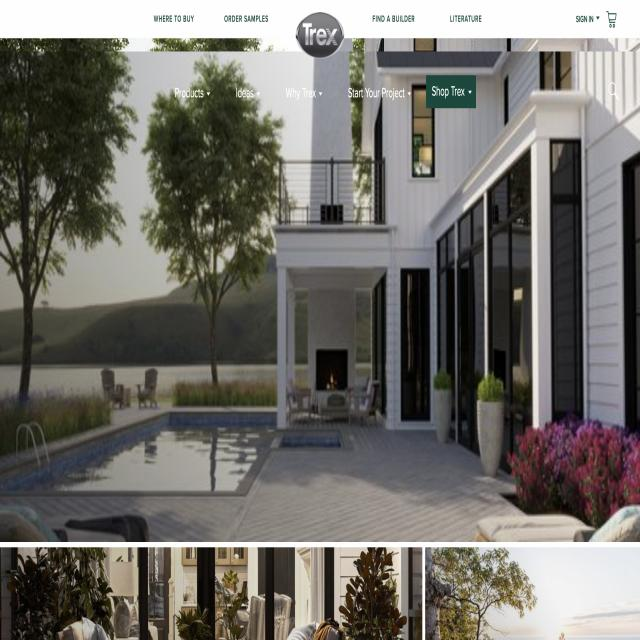Logo: (294, 10, 348, 62)
Navigation: (147, 4, 507, 34)
